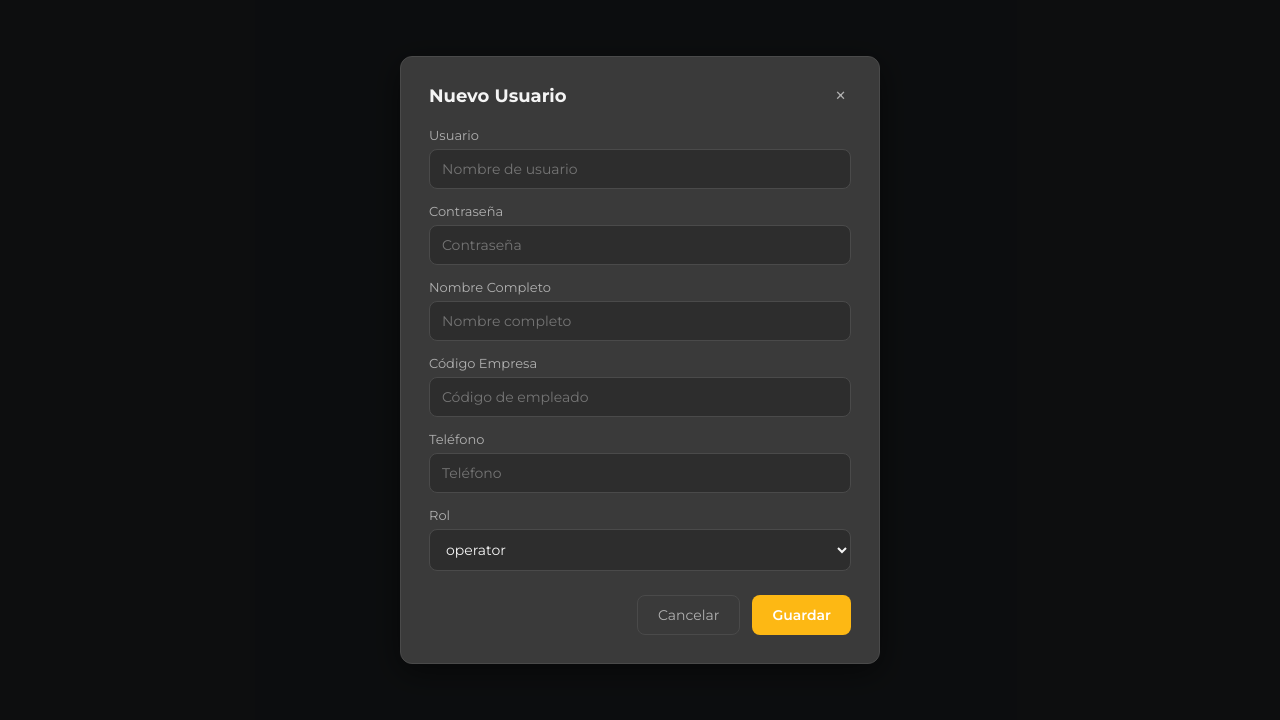
Test: UserFormModal — Create mode (R2) › valida que Usuario sea requerido en create
Fill only full_name to pass that check, leave username and password empty
Type "Juan" into the field with placeholder "Nombre Completo". click: (640, 321)
box: top-left (429, 301), bottom-right (851, 341)
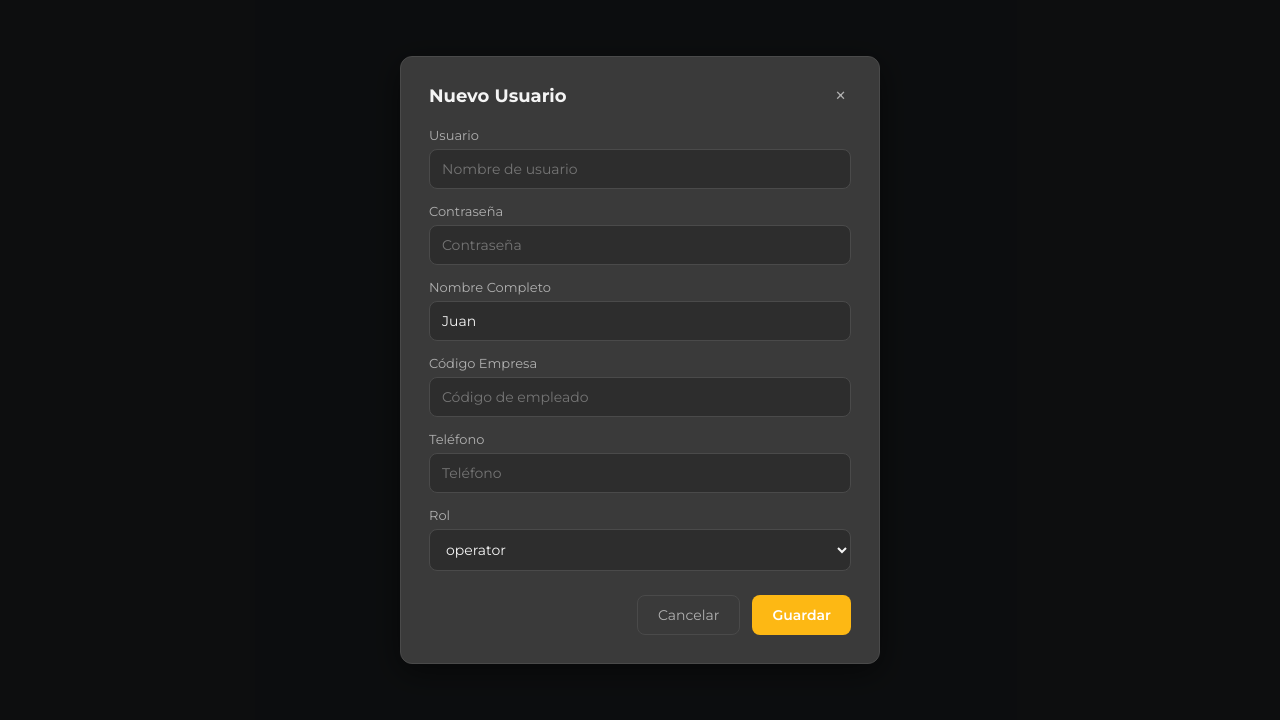
Click the button "Guardar". click: (802, 615)
box: top-left (752, 595), bottom-right (851, 635)
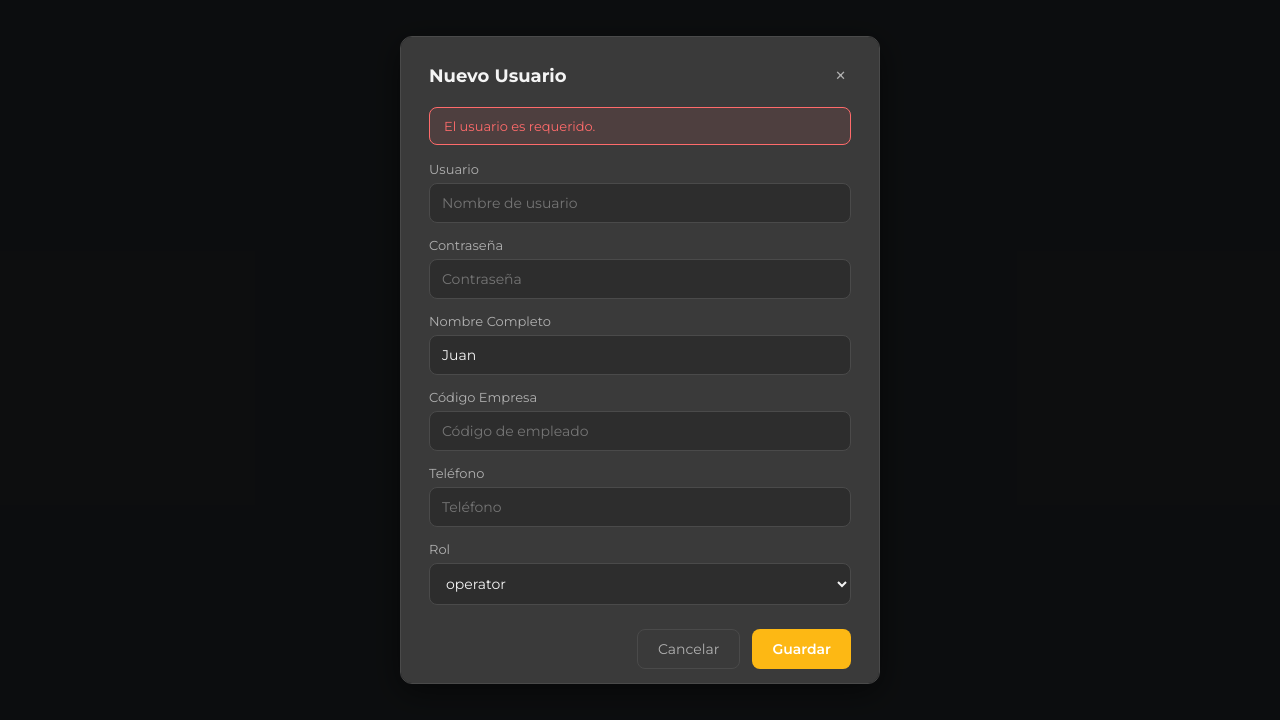
Now the text "El usuario es requerido." is shown, box top-left (429, 107), bottom-right (851, 145)
